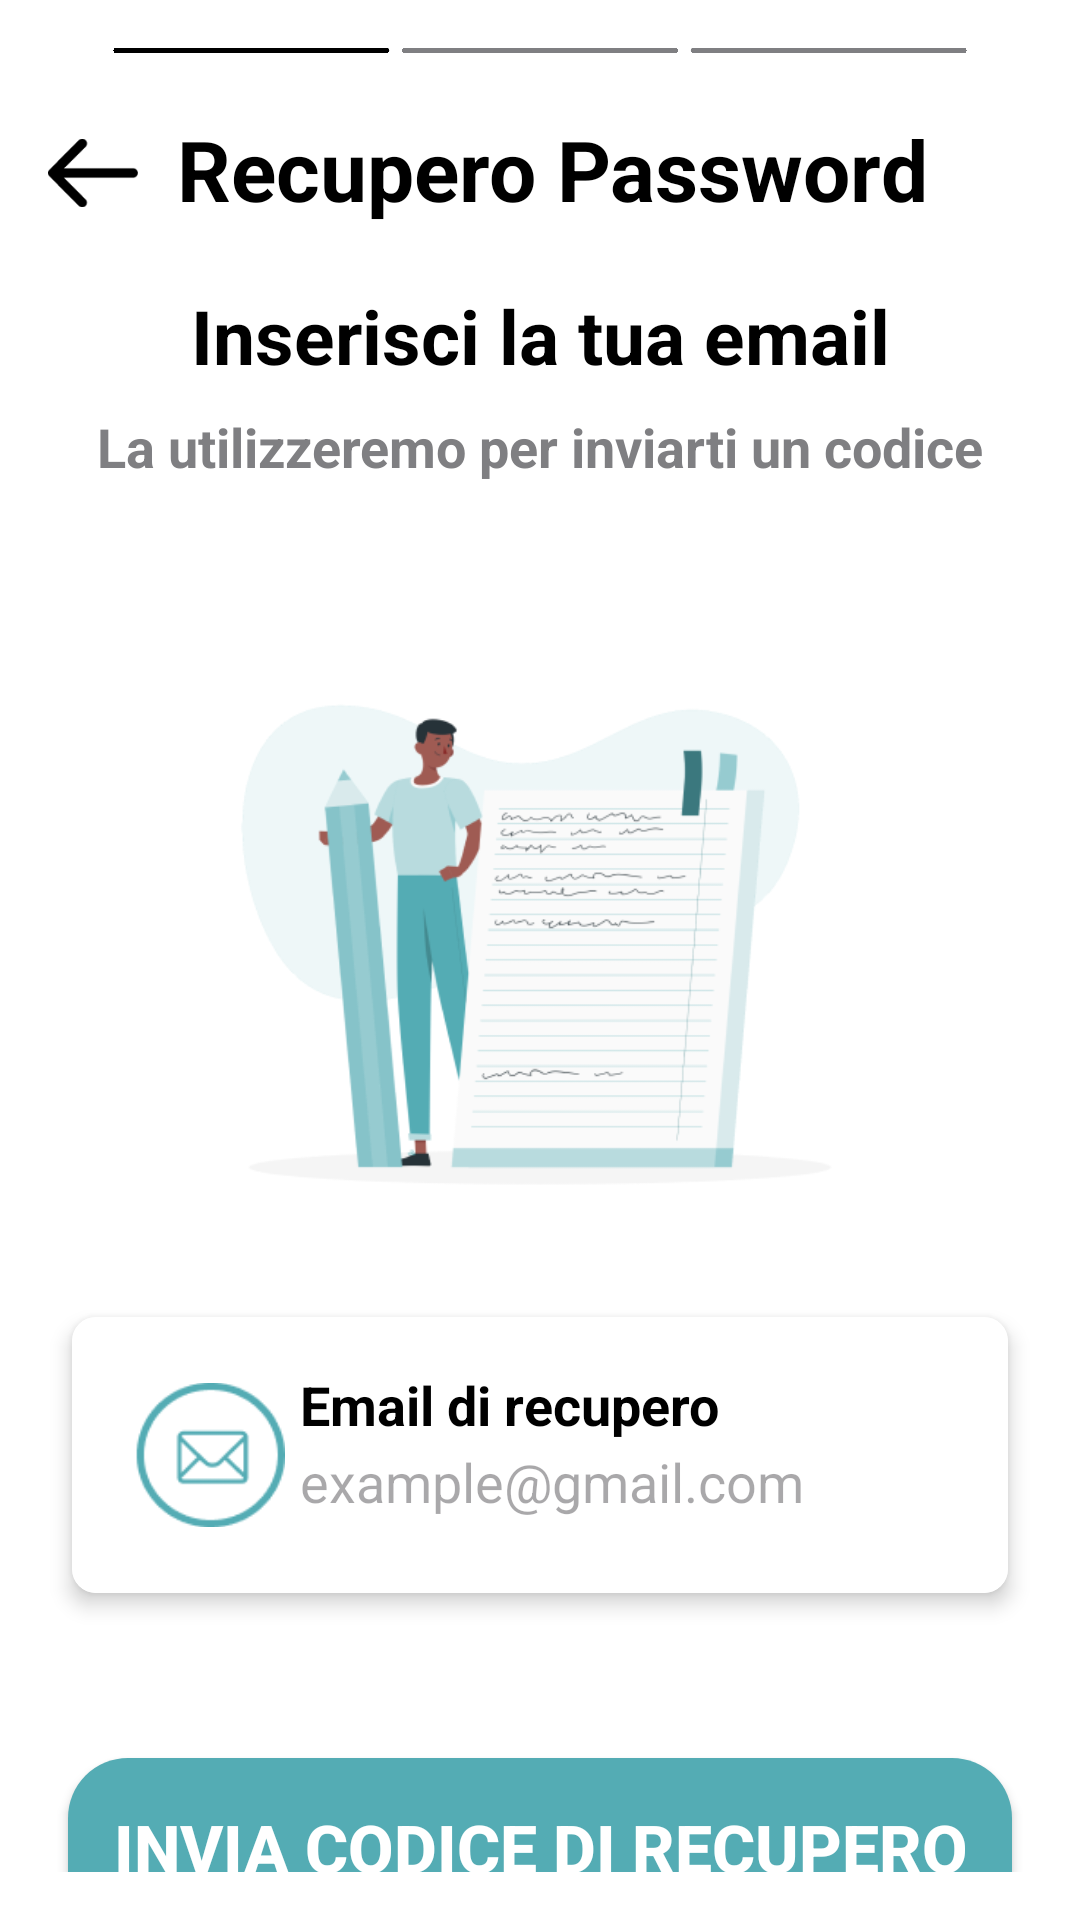

Screen size 1080px×1920px. Icon name, then its center in pixels as (x,y):
freccia: (93,173)
